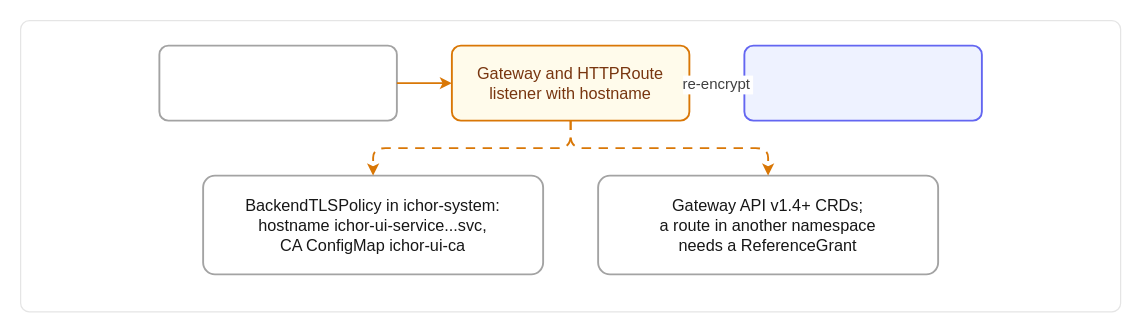
Image size: 1141x333. Some labels were removed from this diagram. Here are the shapes that lost their labels. From the top down, the box of each, then its label:
(158, 44, 397, 121): Browser
(743, 44, 982, 121): ichor-ui-service port 8443 (https)
